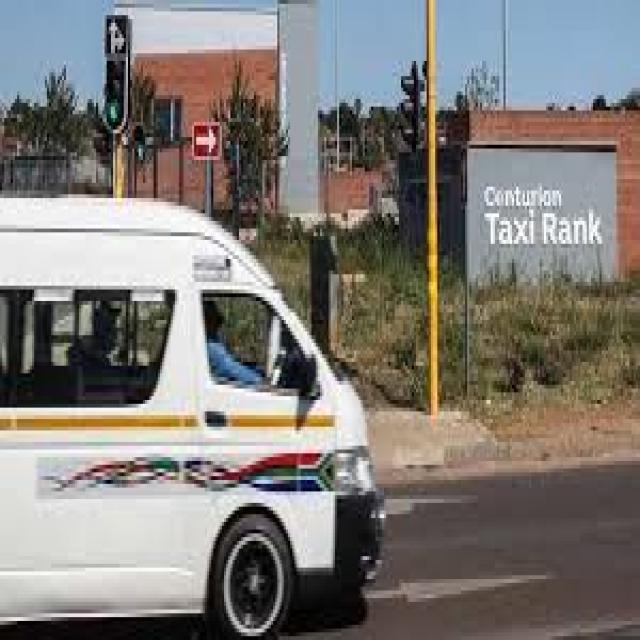MiniBus taxi: (2, 186, 381, 640)
